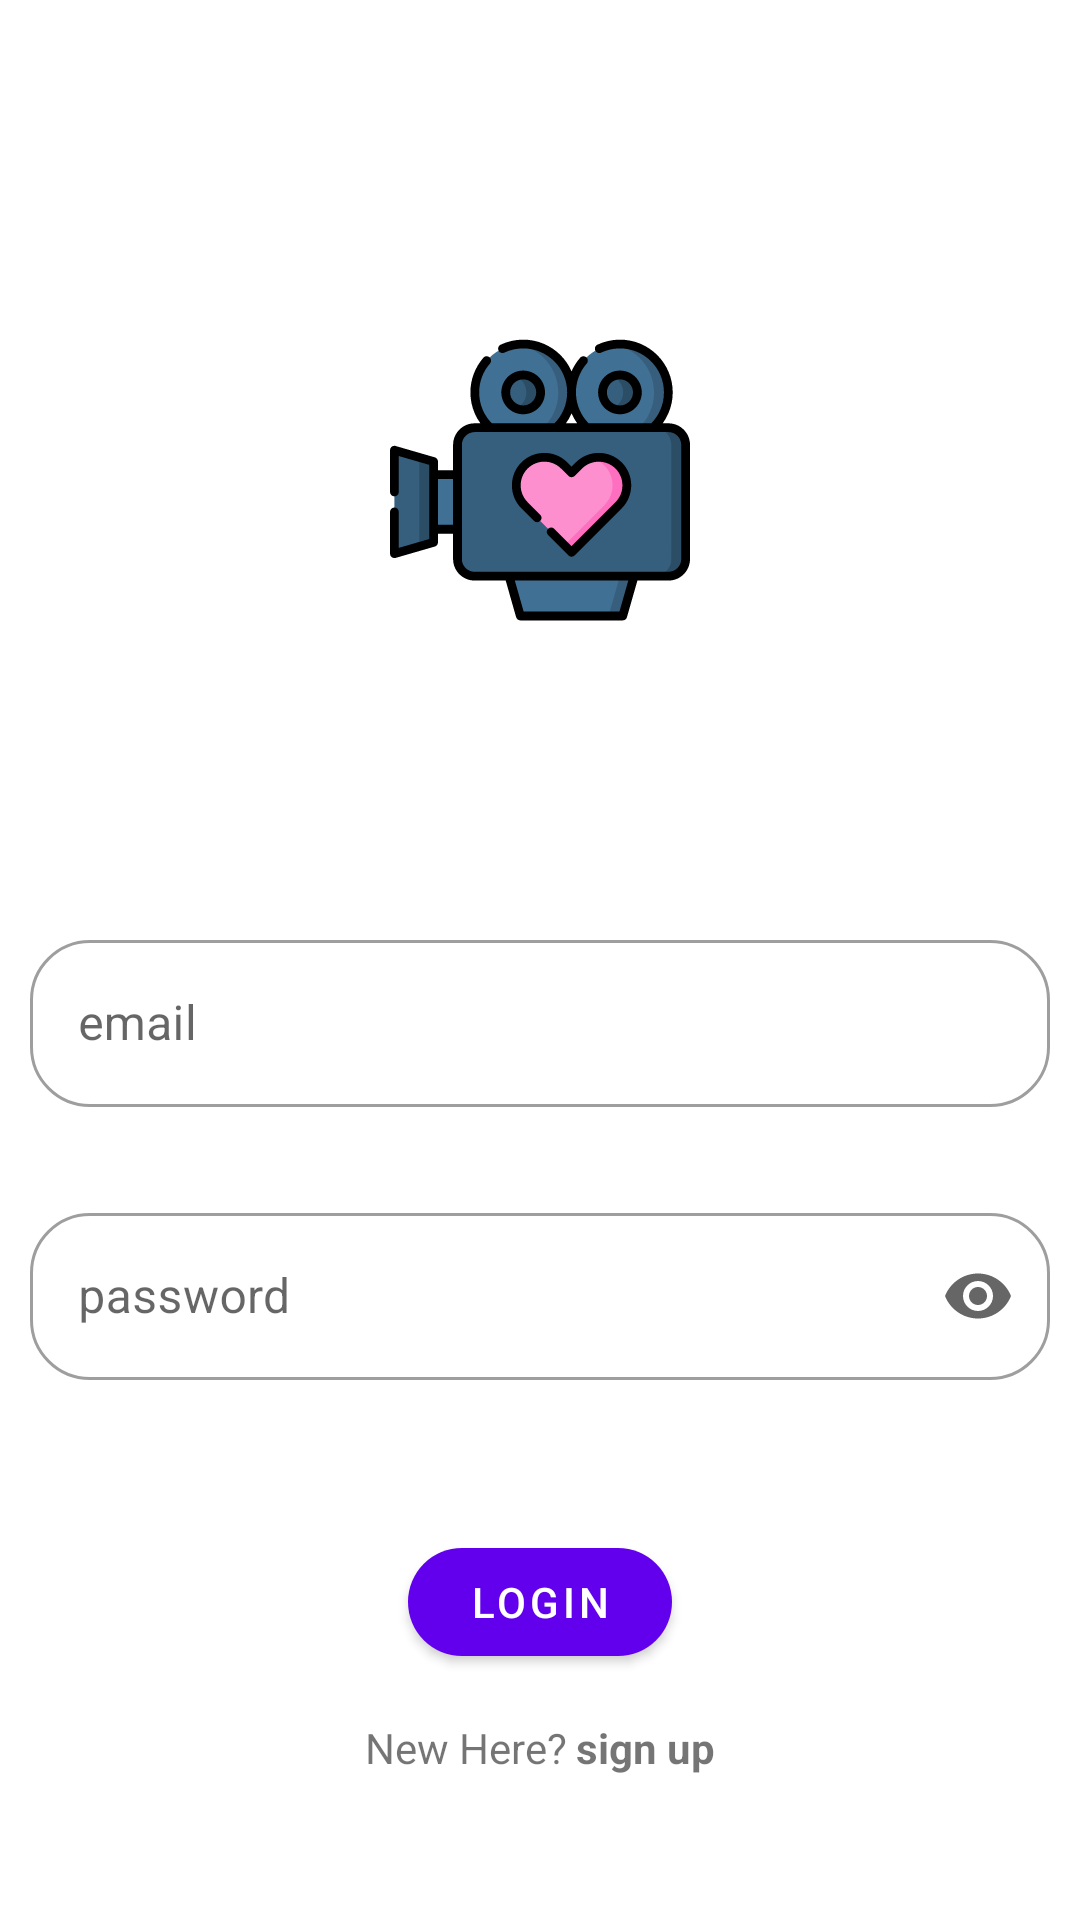

Icons on this 1080x1920 Android screen, each with the point to tap as (x,y):
movie: (540,480)
